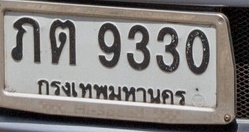txt16: (48, 17, 77, 66)
txt27: (9, 16, 43, 66)
